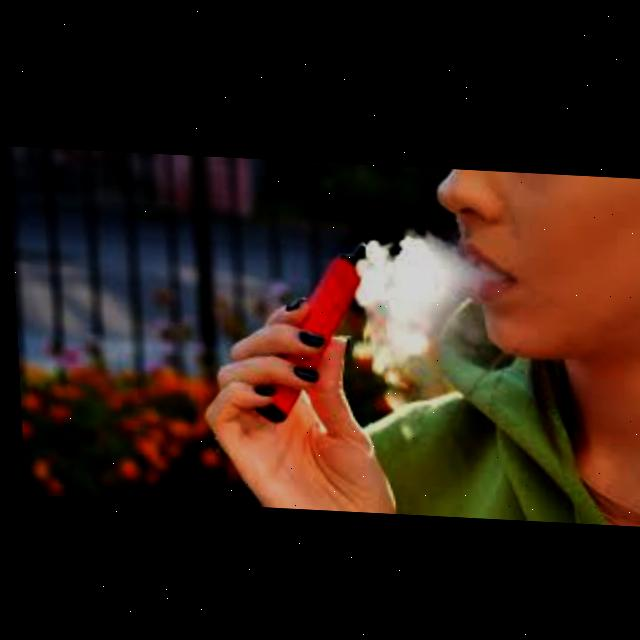vape: (240, 235, 372, 422)
